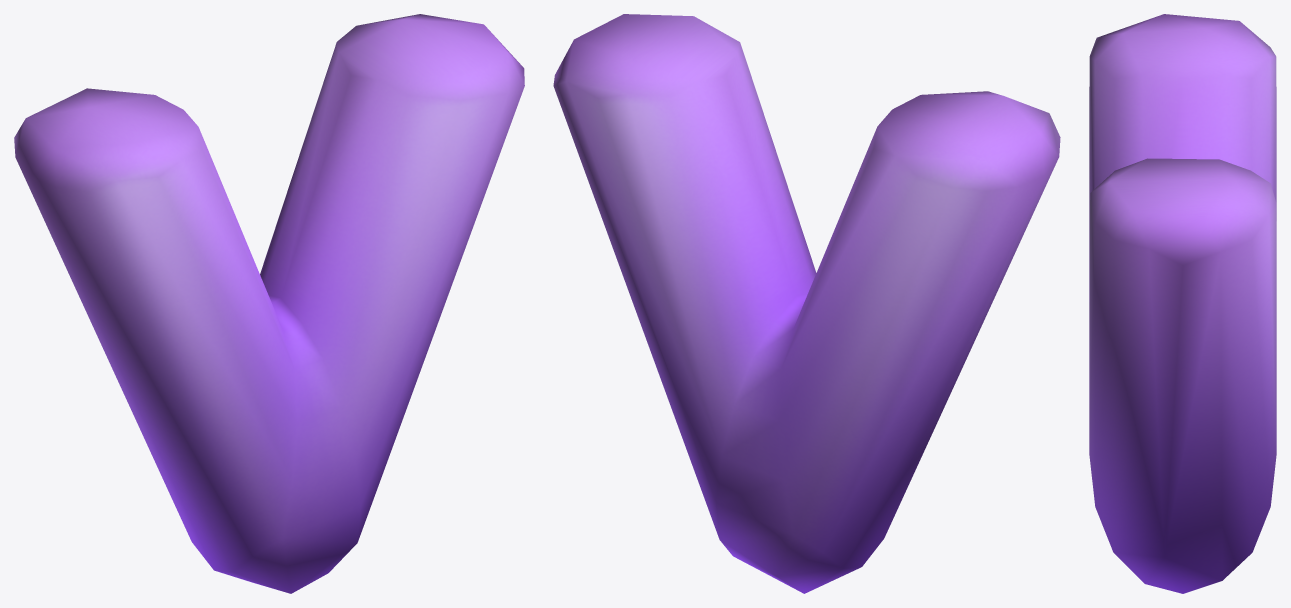
3 renders of one model, left to right at view 1: azimuth 30°, elevation 25°; view 2: azimuth 150°, elevation 25°; view 3: azimuth 270°, elevation 25°, orthographic. The views are drawn at different scales.
Visible parts, largest first — view 1: Processed_Mesh0_Geometry; view 2: Processed_Mesh0_Geometry; view 3: Processed_Mesh0_Geometry.
Boxes of the visible parts, left/top/right/bottom form: Processed_Mesh0_Geometry: left=14, top=14, right=524, bottom=593; Processed_Mesh0_Geometry: left=553, top=14, right=1060, bottom=593; Processed_Mesh0_Geometry: left=1089, top=14, right=1276, bottom=593.
Size of what is drawn, in the model's own units: 0.0529 by 0.0545 by 0.0193.
Materials: 1 (1 with a texture image).
